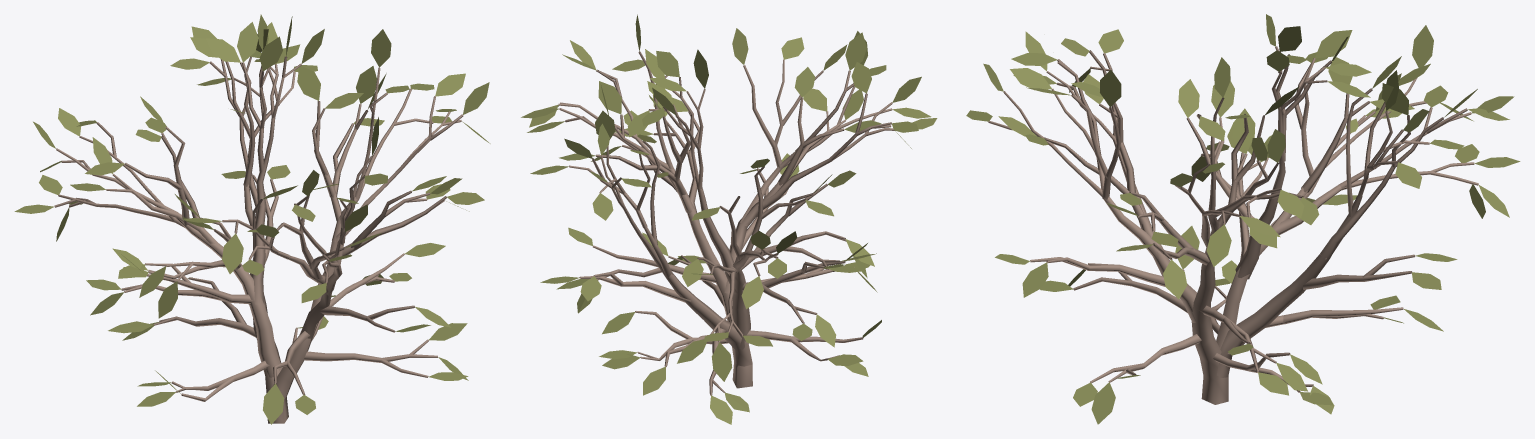
The model's file is Shrub_01.fbx.
The picture shows the model from 3 angles, left to right: view 1: azimuth 30°, elevation 25°; view 2: azimuth 150°, elevation 25°; view 3: azimuth 270°, elevation 25°; orthographic projection. The views are drawn at different scales.
Parts seen in each view (by area): view 1: tree.008; view 2: tree.008; view 3: tree.008.
Boxes of the visible parts, x1=… form: tree.008: x1=14, y1=14, x2=490, y2=424; tree.008: x1=521, y1=14, x2=937, y2=424; tree.008: x1=966, y1=14, x2=1520, y2=424.
Bounding box in the file's own units: 48.95 × 46.99 × 58.49.
